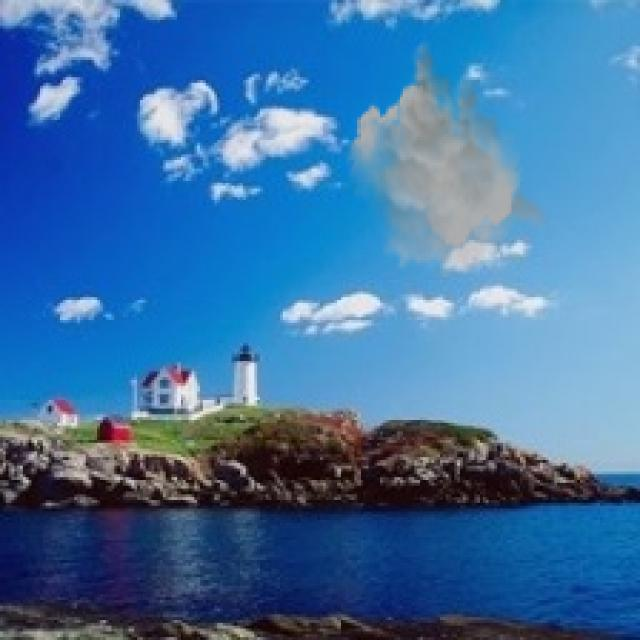Smoke: (346, 37, 548, 280)
